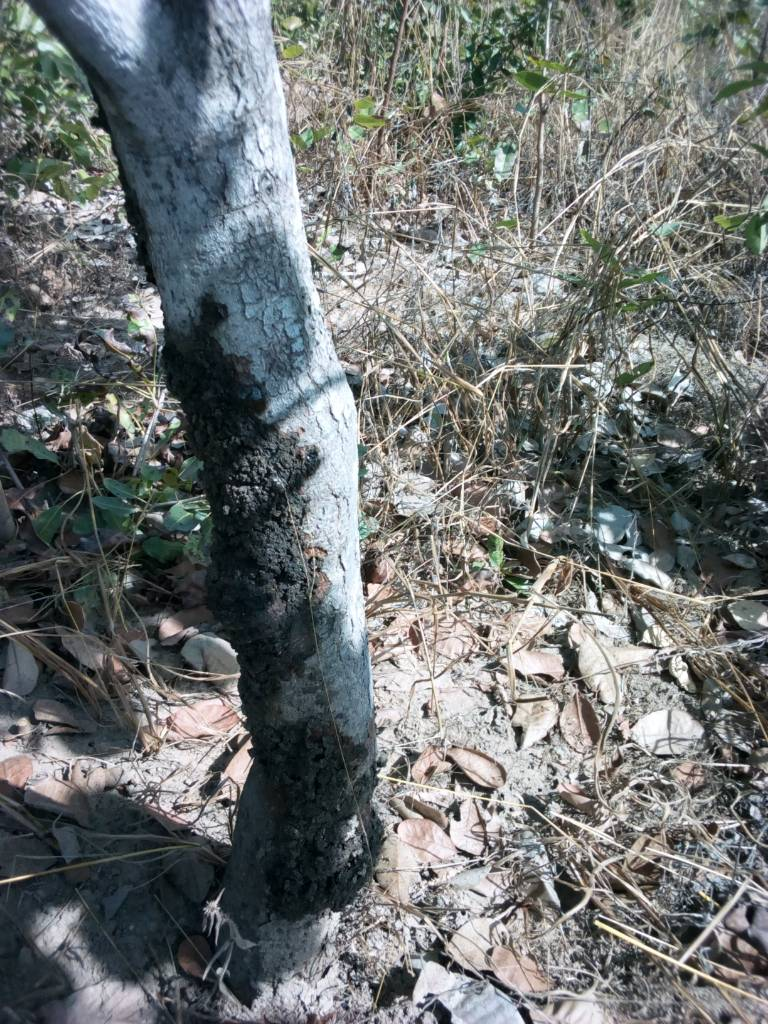Termites: (210, 315, 364, 914)
